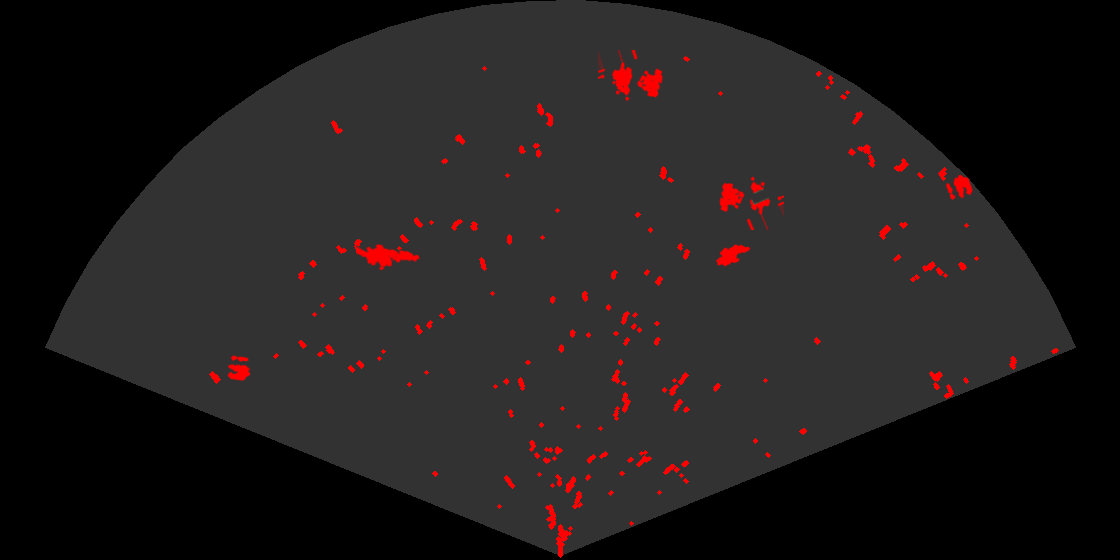AUV: (714, 243, 752, 268)
ball: (944, 173, 974, 201), (226, 354, 252, 382)
cage: (718, 175, 784, 230), (598, 50, 664, 103)
frogman: (356, 242, 422, 272)
